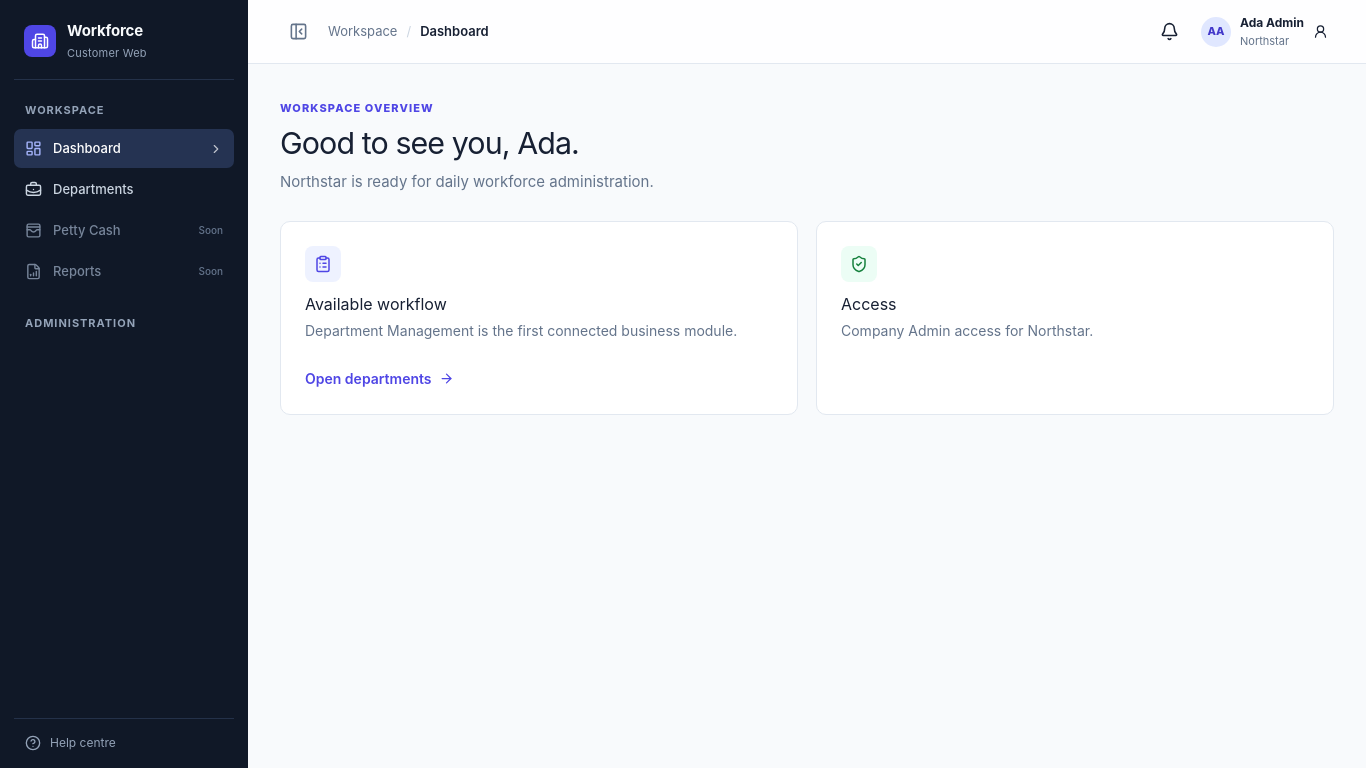
Test: authentication frontend › clears local authentication when logout is already expired server-side
Expected: the heading "Good to see you, Ada." is shown, [280,125,579,161]
Click the text "Ada Admin".
click(1272, 23)  # box [1240,14,1304,32]
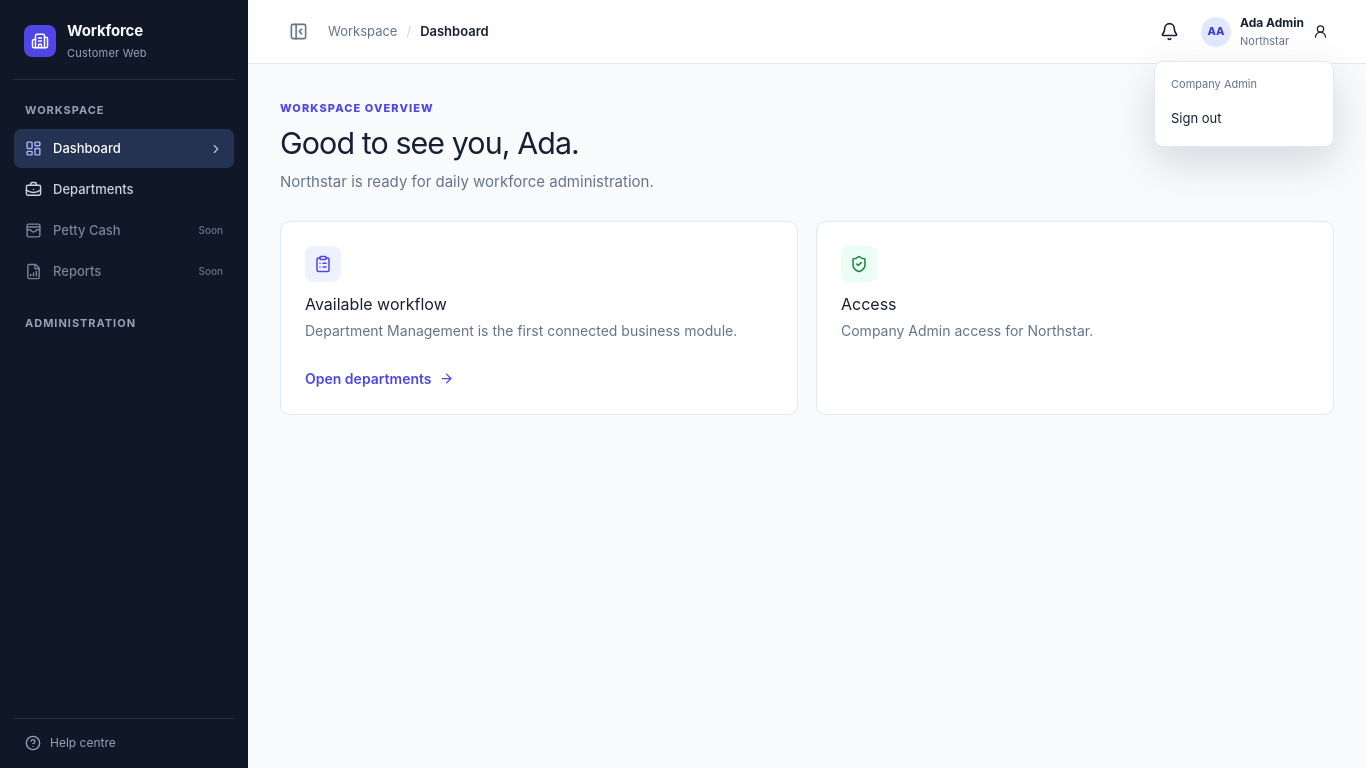
Click the button "Sign out".
click(1244, 119)  # box [1164,101,1324,137]
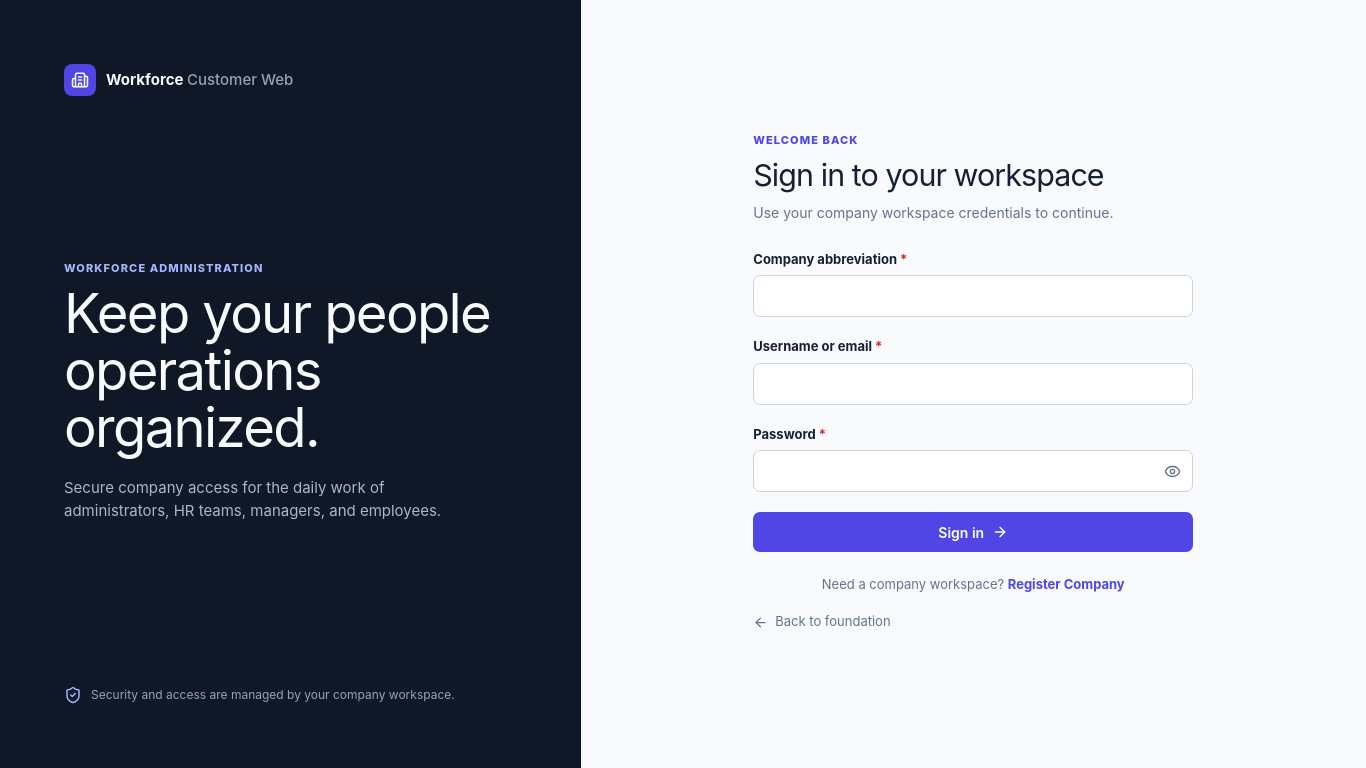
Expected: the heading "Sign in to your workspace" is shown, [753,158,1104,194]
